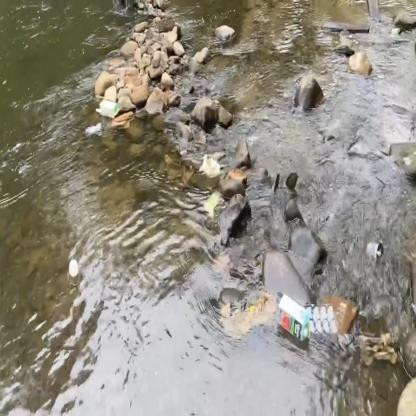trash: (168, 15, 392, 130), (220, 286, 282, 344), (276, 291, 314, 345), (322, 290, 362, 340), (355, 329, 399, 366), (301, 300, 341, 340), (196, 152, 224, 182), (204, 188, 225, 219), (96, 96, 121, 122), (109, 108, 136, 132), (364, 237, 386, 262), (84, 119, 105, 140), (67, 257, 81, 281)
